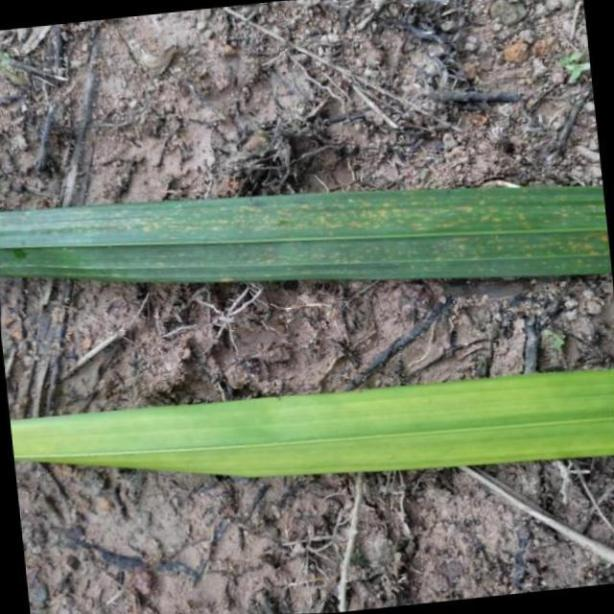nitrogen: (0, 363, 614, 483)
